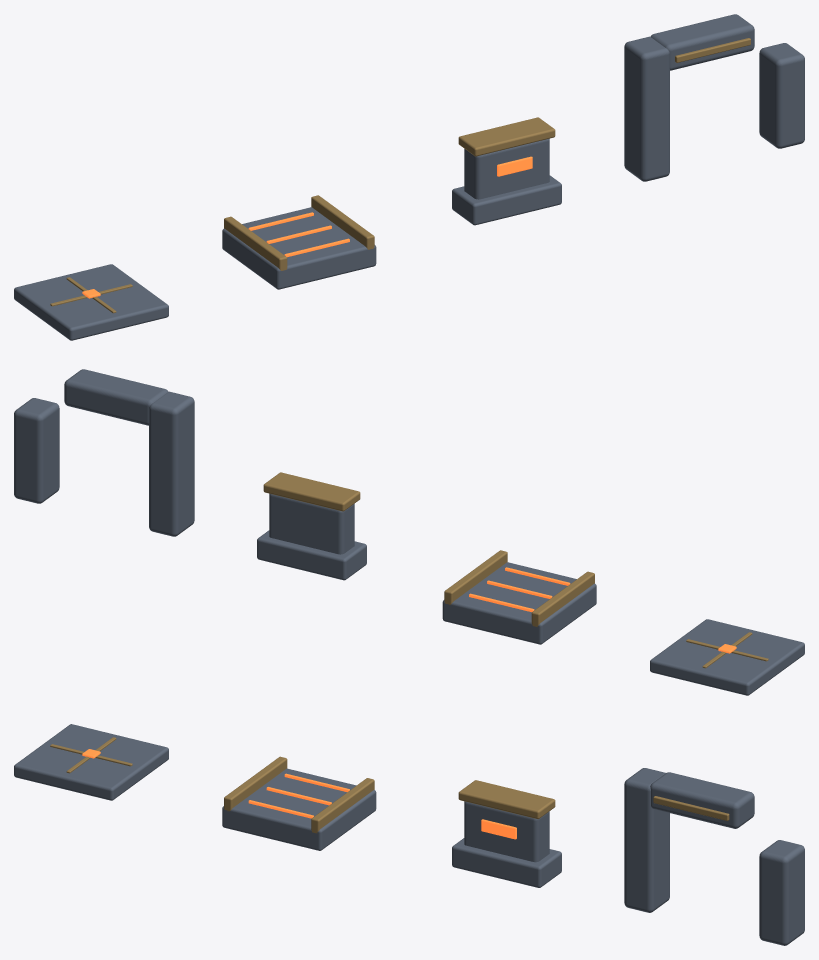
The model's file is chapter_one_observatory_kit.glb.
3 renders of one model, top to bottom at view 1: azimuth 30°, elevation 25°; view 2: azimuth 150°, elevation 25°; view 3: azimuth 330°, elevation 25°, orthographic.
Visible parts, largest first — view 1: Ruin_Arch_2x1, Bridge_1x1, Cover_Low_1x1, Floor_1x1; view 2: Ruin_Arch_2x1, Bridge_1x1, Cover_Low_1x1, Floor_1x1; view 3: Ruin_Arch_2x1, Bridge_1x1, Cover_Low_1x1, Floor_1x1.
Boxes of the visible parts, <box> form: Ruin_Arch_2x1: <box>624,14,804,181</box>; Bridge_1x1: <box>222,195,376,289</box>; Cover_Low_1x1: <box>452,117,561,225</box>; Floor_1x1: <box>14,264,168,340</box>; Ruin_Arch_2x1: <box>14,369,194,536</box>; Bridge_1x1: <box>442,550,596,644</box>; Cover_Low_1x1: <box>257,472,366,580</box>; Floor_1x1: <box>650,619,804,695</box>; Ruin_Arch_2x1: <box>624,768,804,945</box>; Bridge_1x1: <box>222,756,376,850</box>; Cover_Low_1x1: <box>452,780,561,887</box>; Floor_1x1: <box>14,724,168,800</box>.
Size of the model in its own units: 7.27 by 1.2 by 0.96.
